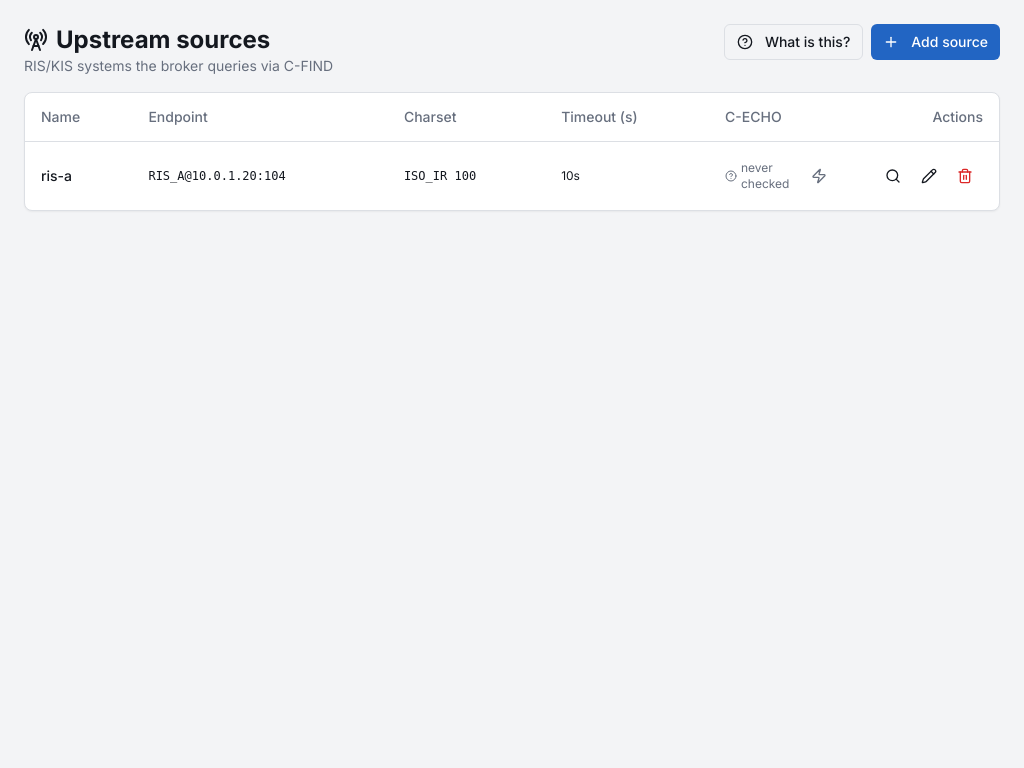
Scenario: table rows open the edit dialog › does not swallow clicks on the action buttons
Expected: the text "ris-a" is shown, [25,141,132,210]
// the delete button must open the confirmation, not the edit dialog
Click the button named "Delete source" at (965, 176), box [947,158,983,194]
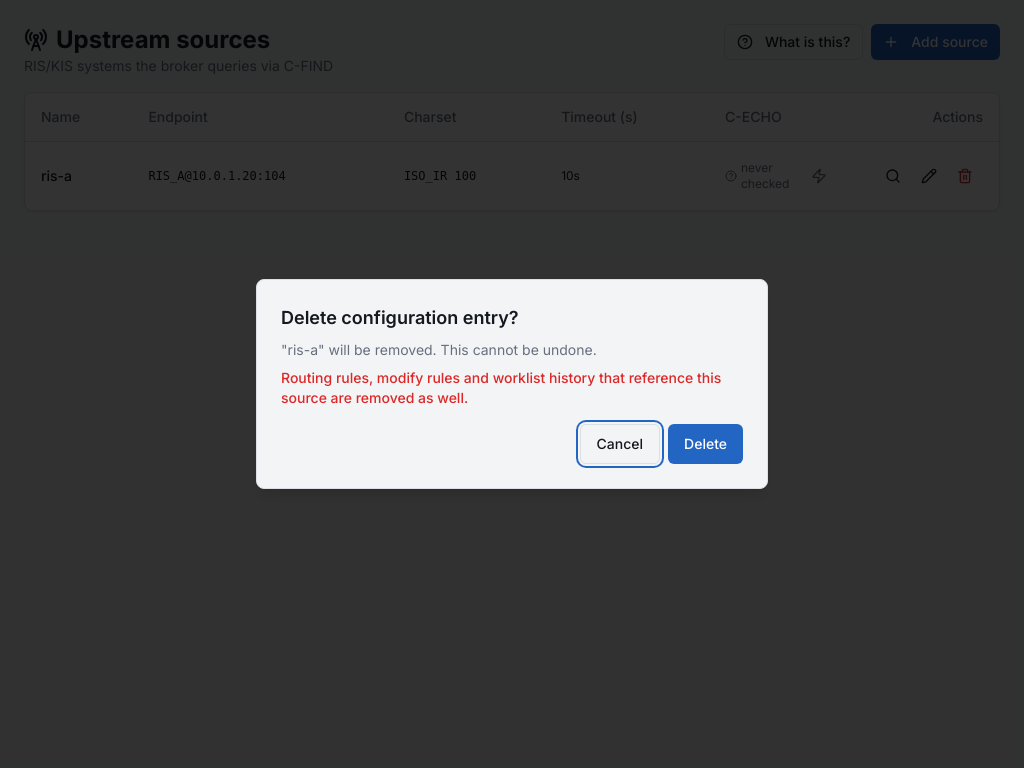
Result: the dialog is shown at [256,279,768,489]
